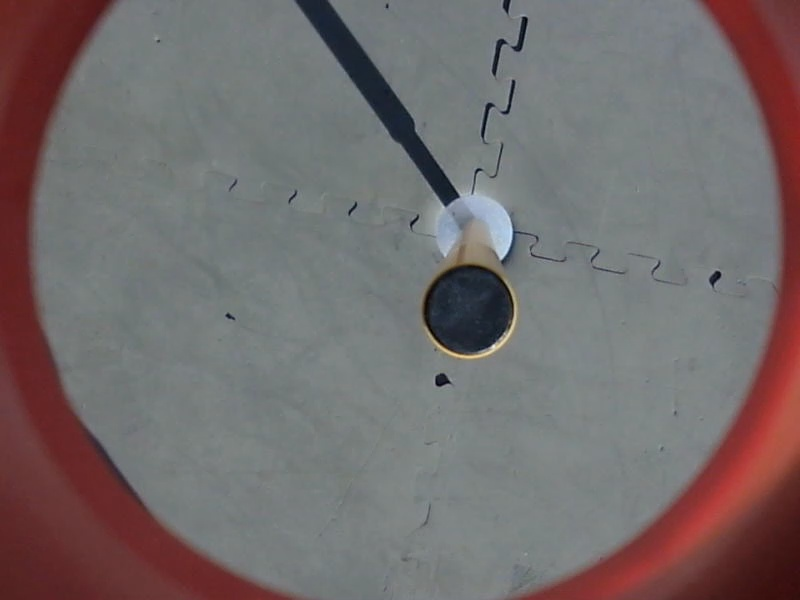tip: (416, 258, 522, 362)
